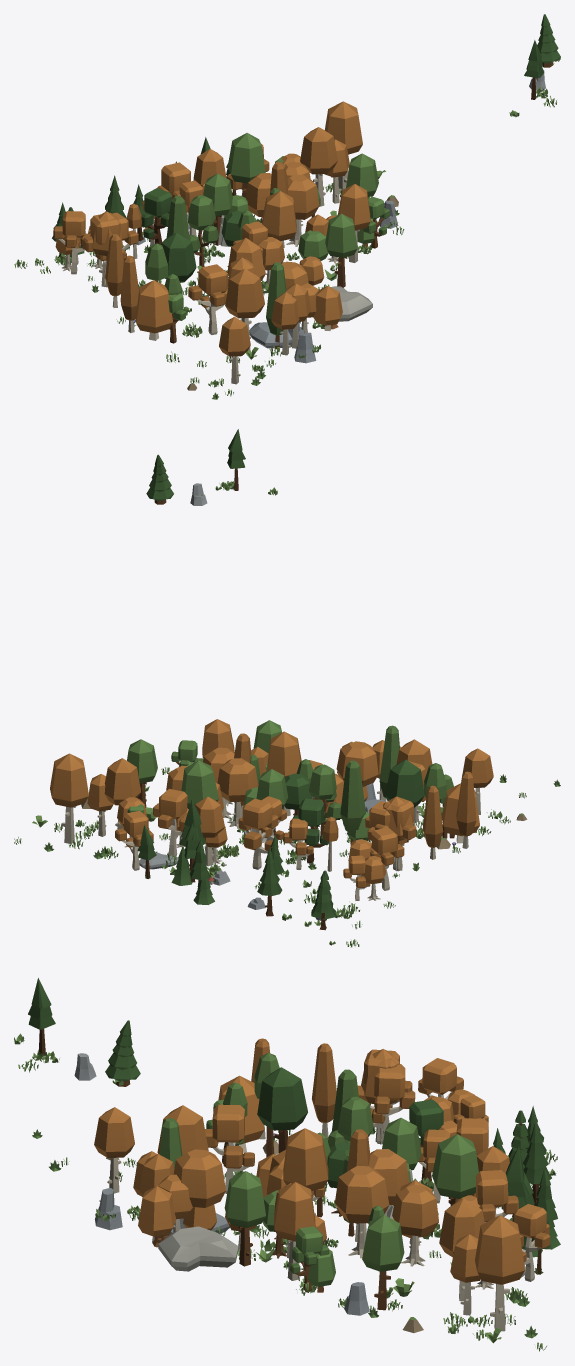
The model's file is cell_x2_z1_render.gltf.
The picture shows the model from 3 angles, top to bottom: view 1: azimuth 30°, elevation 25°; view 2: azimuth 150°, elevation 25°; view 3: azimuth 270°, elevation 25°; orthographic projection. The views are drawn at different scales.
Visible parts, largest first — view 1: cell_x2_z1; view 2: cell_x2_z1; view 3: cell_x2_z1.
Part boxes in pixels (x1,y1,x2,y2): cell_x2_z1: [14, 14, 560, 399]; cell_x2_z1: [14, 429, 560, 947]; cell_x2_z1: [14, 978, 560, 1351].
Bounding box in the file's own units: 40.11 × 29.95 × 38.7.
